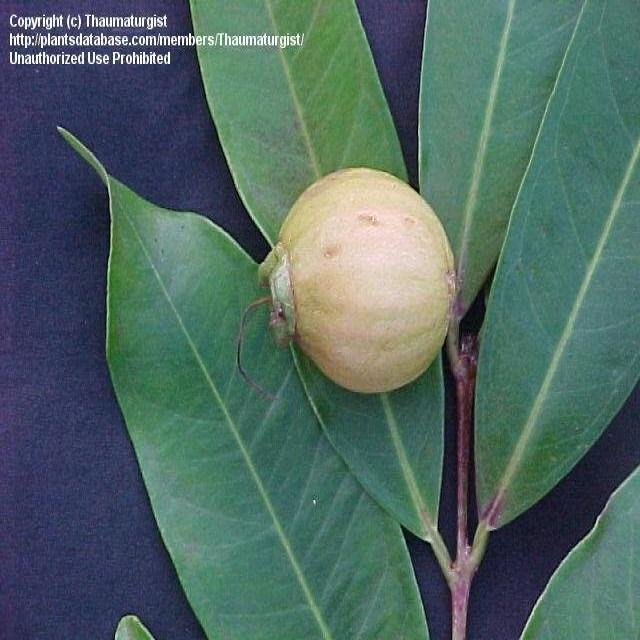Medicinal-Rose Apple: (48, 74, 640, 640)
